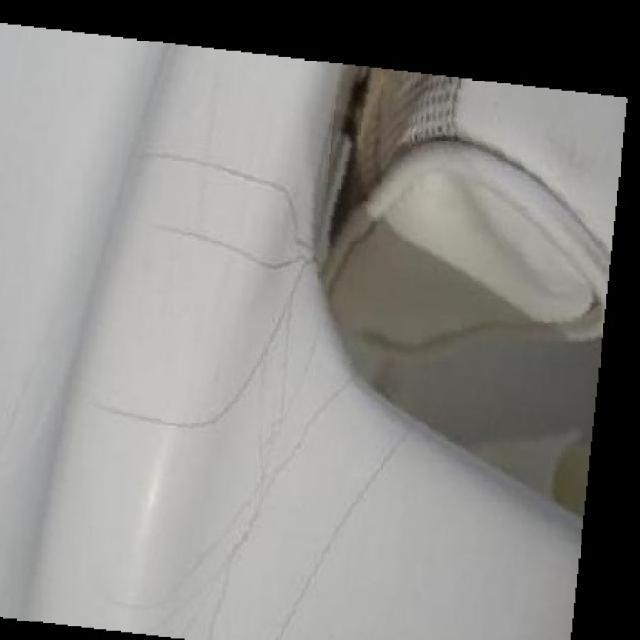crack: (140, 234, 309, 308), (89, 363, 206, 436), (185, 134, 305, 202)
